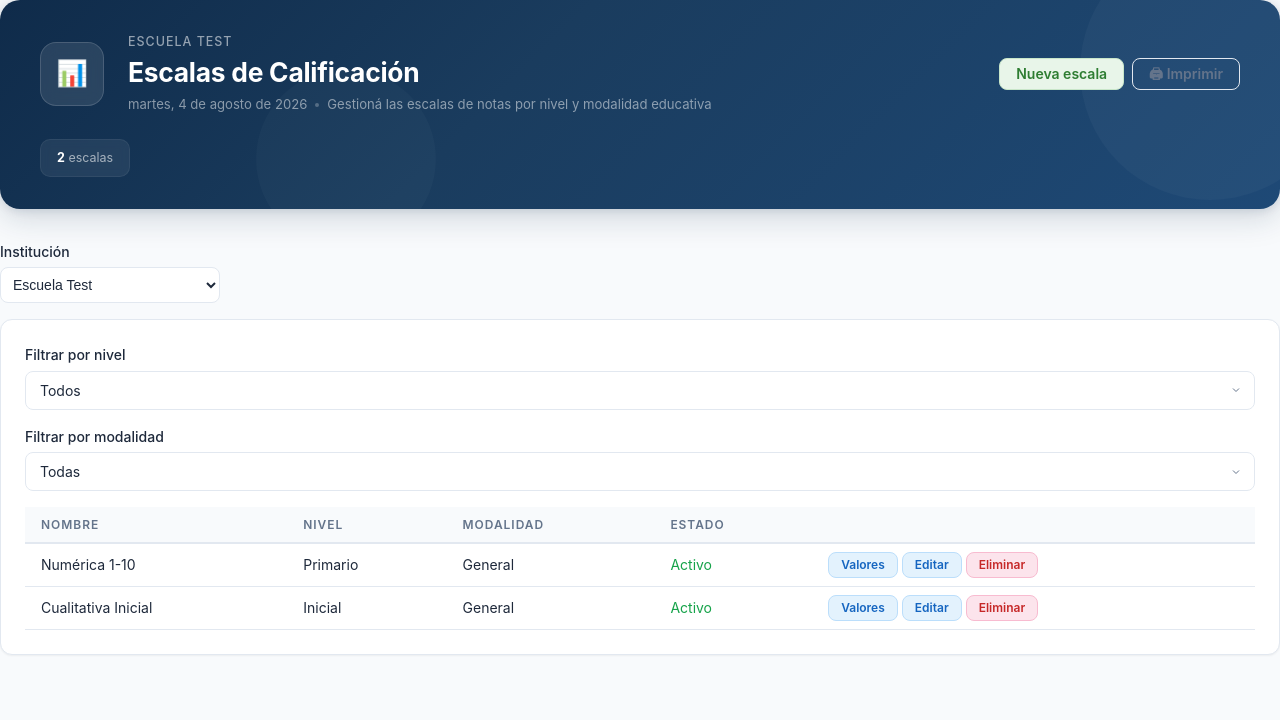
Test: GradingScalesPage — value form internalStatus › internalStatus select in value form has exactly 4 options (excluding empty placeholder)
expect the text "Numérica 1-10" is shown: met, box [25,543,287,587]
Click the button "Valores" in the row of "Numérica 1-10" at (863,565), box [828,552,898,578]
(page scrolled)
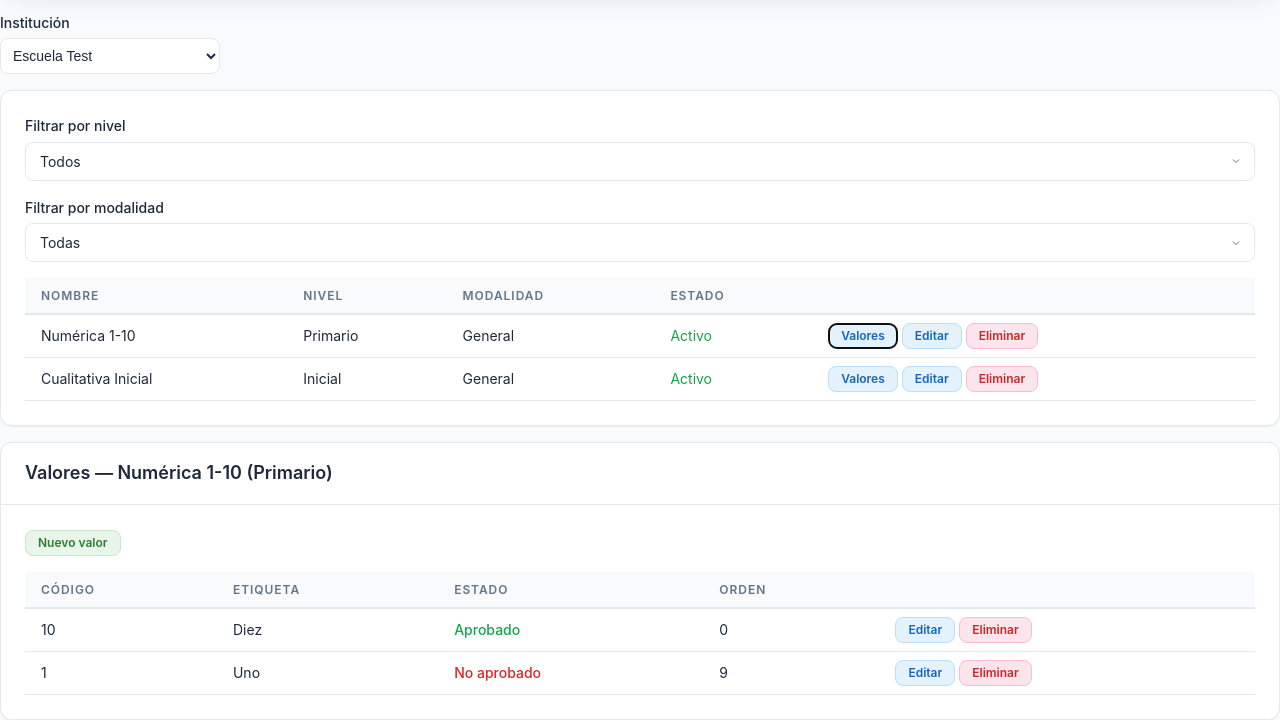
Click the button "Nuevo valor" at (73,543), box [25,530,120,556]
(page scrolled)
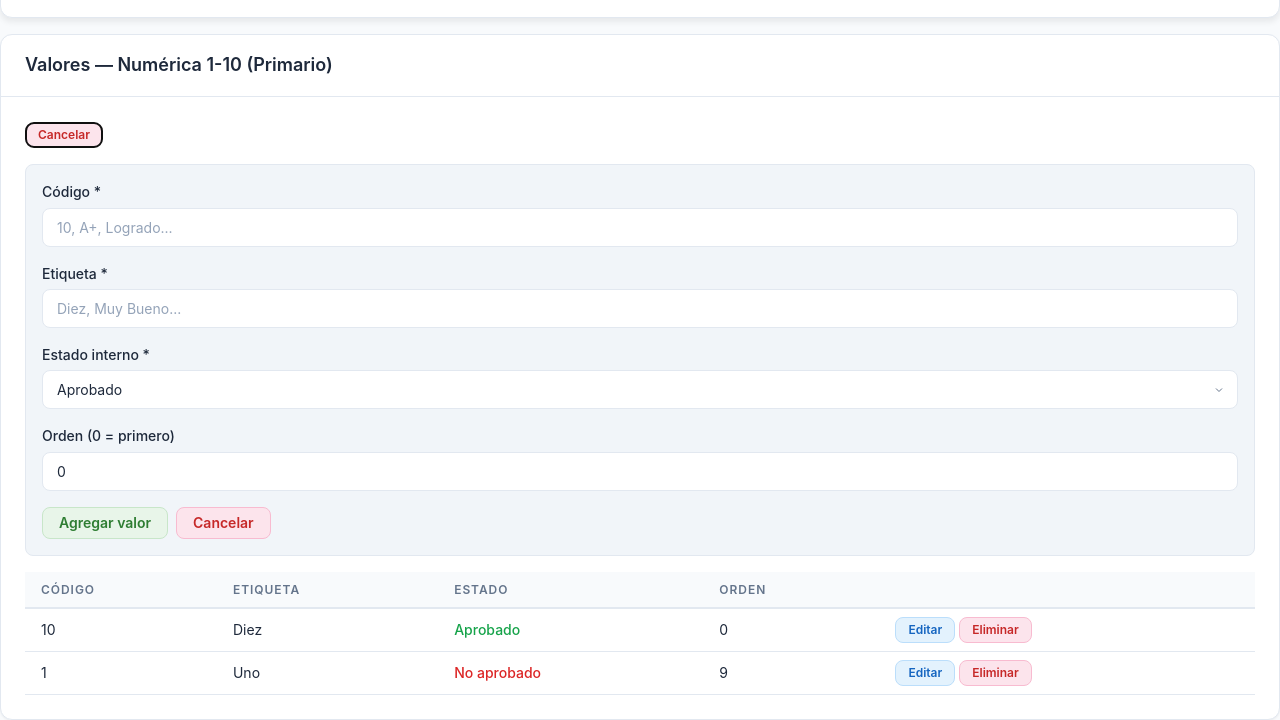
expect the dropdown labelled "Estado interno *" is shown: met, box [42,370,1238,409]
